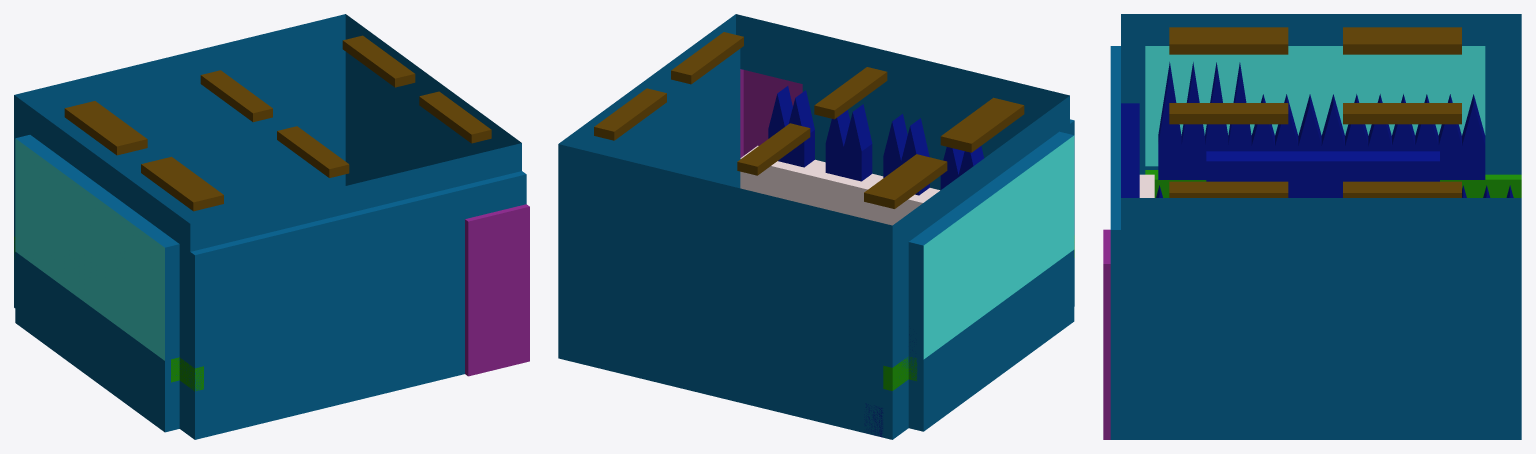
The picture shows the model from 3 angles, left to right: view 1: azimuth 30°, elevation 25°; view 2: azimuth 150°, elevation 25°; view 3: azimuth 270°, elevation 25°; orthographic projection. The views are drawn at different scales.
Parts seen in each view (by area): view 1: Group10, Group9, Group11, Group6, Group2, Group4, Group3, Group5, Group7, Group8; view 2: Group10, Group9, Group11, Group2, Group6, AbsorptionWedge90_8, Group21, Group7, Group5, Group3, Group4, Group69 (+9 smaller); view 3: Group10, Group9, Group2, Group6, Group5, Group7, Group3, Group4, Group77, Group11, Group8, Group76 (+25 smaller).
Part boxes in pixels (x1=…): Group10: x1=14, y1=14, x2=526, y2=439; Group9: x1=15, y1=138, x2=164, y2=360; Group11: x1=465, y1=204, x2=529, y2=376; Group6: x1=64, y1=101, x2=147, y2=155; Group2: x1=141, y1=156, x2=223, y2=211; Group4: x1=342, y1=35, x2=415, y2=87; Group3: x1=419, y1=91, x2=491, y2=143; Group5: x1=277, y1=126, x2=349, y2=177; Group7: x1=200, y1=70, x2=272, y2=122; Group8: x1=14, y1=236, x2=203, y2=391; Group10: x1=558, y1=14, x2=1074, y2=439; Group9: x1=923, y1=135, x2=1074, y2=359; Group11: x1=740, y1=69, x2=802, y2=157; Group2: x1=940, y1=97, x2=1024, y2=152; Group6: x1=864, y1=154, x2=947, y2=208; AbsorptionWedge90_8: x1=843, y1=104, x2=872, y2=181; Group21: x1=797, y1=172, x2=855, y2=216; Group7: x1=737, y1=123, x2=810, y2=175; Group5: x1=814, y1=67, x2=887, y2=119; Group3: x1=671, y1=32, x2=743, y2=84; Group4: x1=594, y1=88, x2=666, y2=140; Group69: x1=740, y1=165, x2=797, y2=201; Group10: x1=1110, y1=14, x2=1521, y2=439; Group9: x1=1145, y1=46, x2=1485, y2=166; Group2: x1=1169, y1=27, x2=1288, y2=54; Group6: x1=1343, y1=27, x2=1461, y2=54; Group5: x1=1169, y1=103, x2=1288, y2=124; Group7: x1=1343, y1=103, x2=1461, y2=124; Group3: x1=1169, y1=181, x2=1288, y2=197; Group4: x1=1343, y1=181, x2=1461, y2=197; Group77: x1=1158, y1=62, x2=1181, y2=179; Group11: x1=1103, y1=229, x2=1110, y2=439; Group8: x1=1145, y1=170, x2=1521, y2=197; Group76: x1=1181, y1=62, x2=1204, y2=179.
Size of the model in its own units: 4.87 by 2.86 by 4.48.
